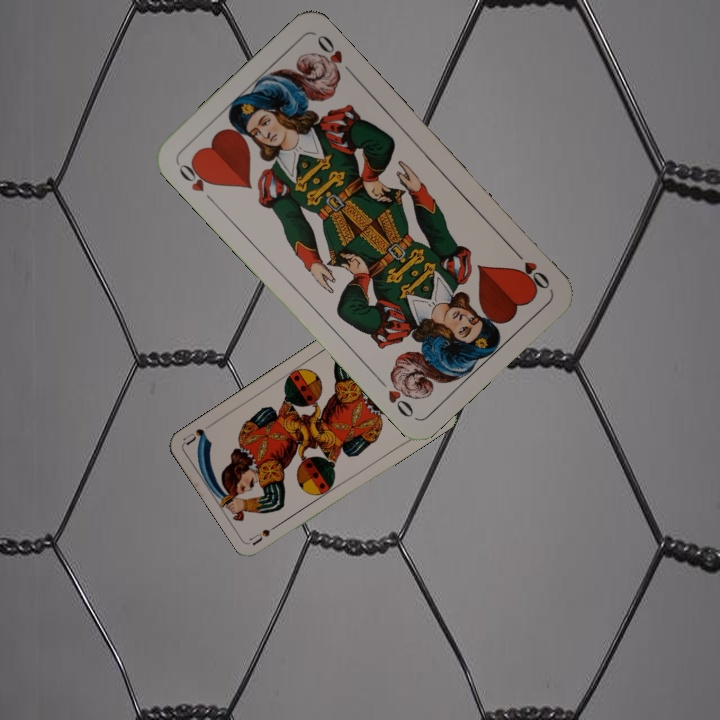HO: (174, 156, 219, 207), (508, 245, 553, 293)
SU: (246, 518, 284, 547)
